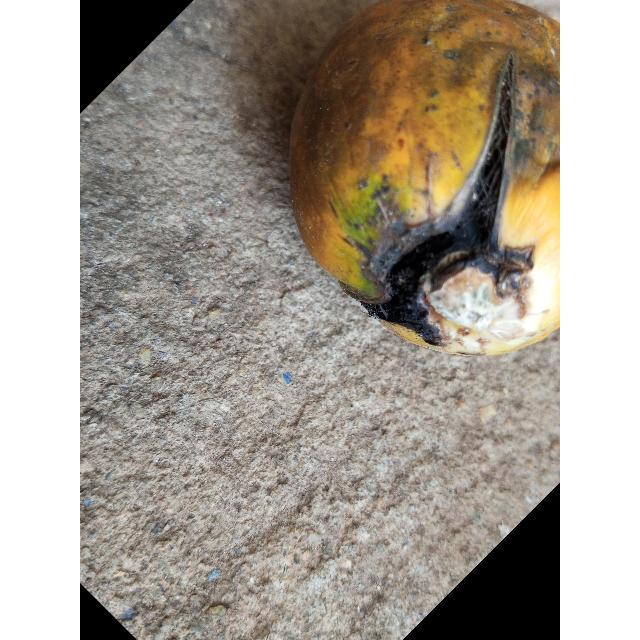damaged: (289, 0, 560, 360)
